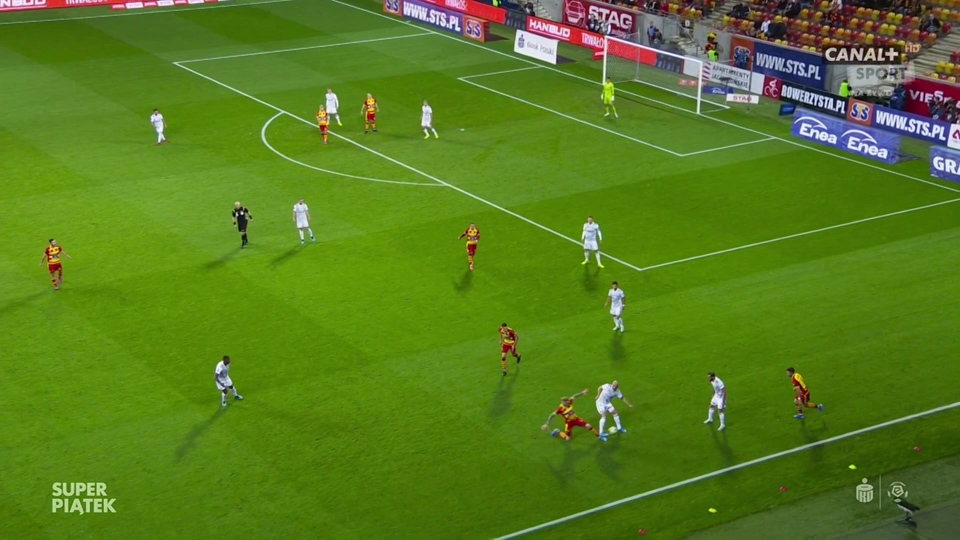pko: (853, 476, 875, 502), (516, 30, 526, 49)
